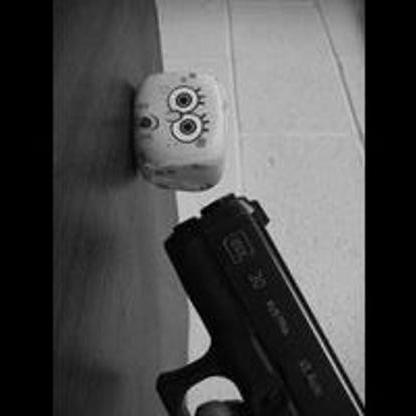weapon: (154, 190, 365, 416)
